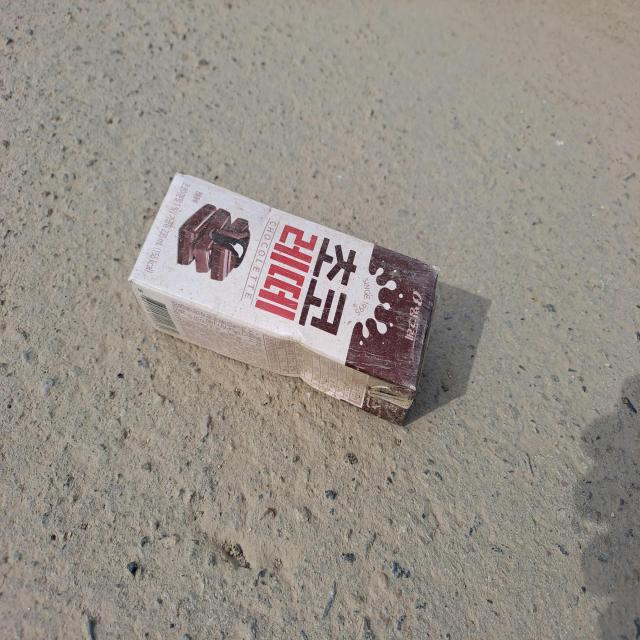paperpack: (128, 172, 438, 424)
